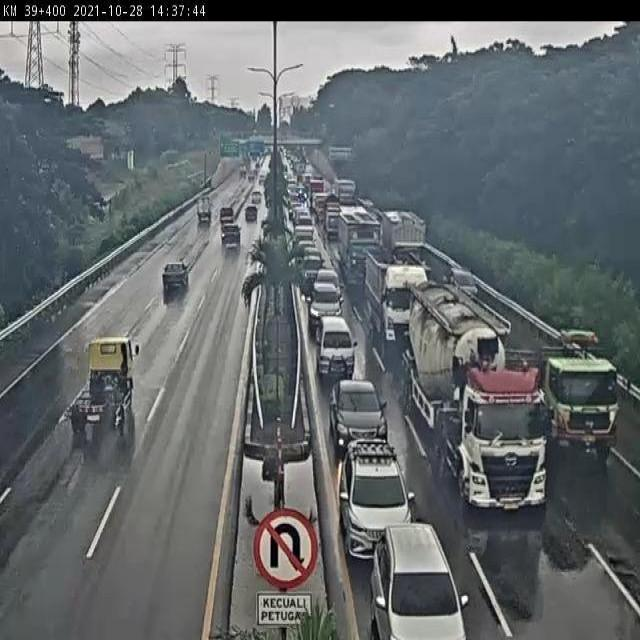big truck: (401, 286, 550, 498), (528, 325, 624, 467), (360, 247, 436, 349), (338, 210, 384, 282), (383, 207, 433, 272)
car: (361, 520, 485, 640), (342, 453, 419, 571), (329, 373, 399, 468), (313, 316, 359, 381), (303, 284, 351, 336), (438, 263, 486, 301), (160, 251, 193, 300), (220, 221, 242, 251), (217, 203, 235, 229), (242, 202, 259, 222), (250, 187, 265, 205)
small truck: (60, 336, 142, 439), (194, 193, 217, 228)
